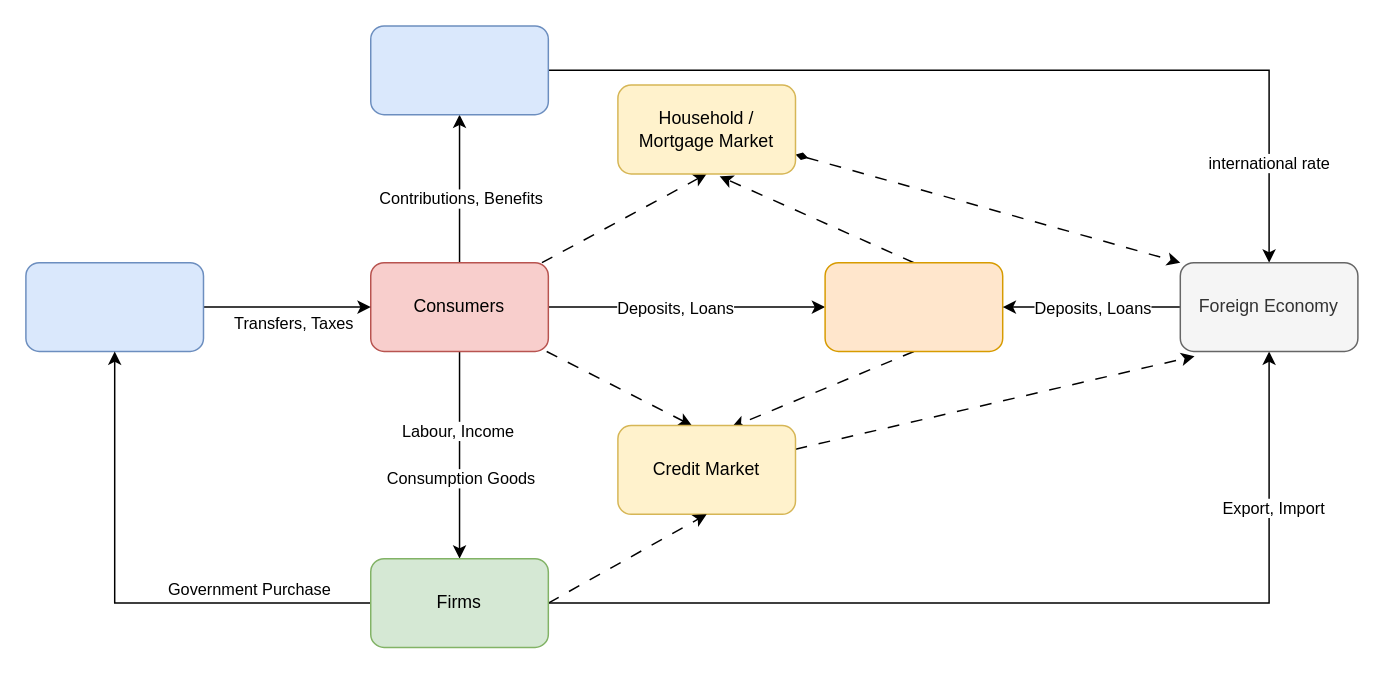
The diagram is 1384 pixels wide and 673 high, and some of its shapes have lost their labels. The shapes that lost their labels are listed below. From the top down, each one's box as (x1, y1, x2, y2) in pixels, then its label:
(369, 24, 548, 115): Pension Funds
(24, 261, 204, 352): Government
(824, 261, 1003, 352): Banks
